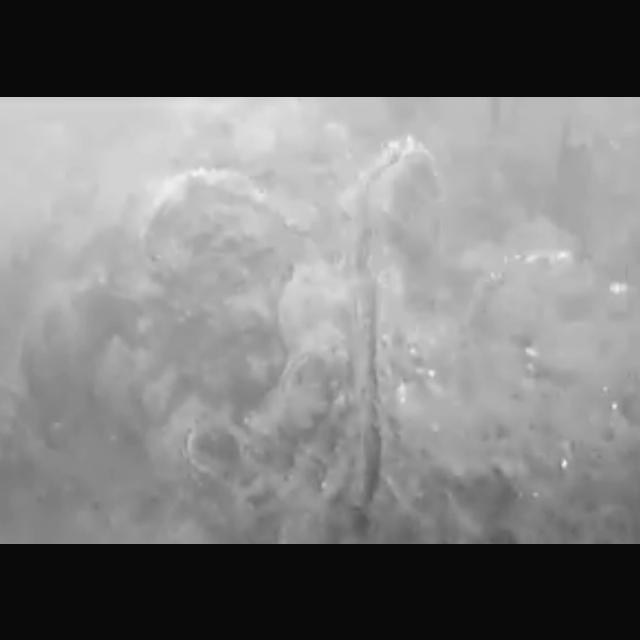Oyster-Closed: (134, 168, 298, 384)
Oyster-Open: (340, 258, 406, 510), (339, 133, 448, 275), (171, 409, 265, 491), (273, 342, 337, 432)
